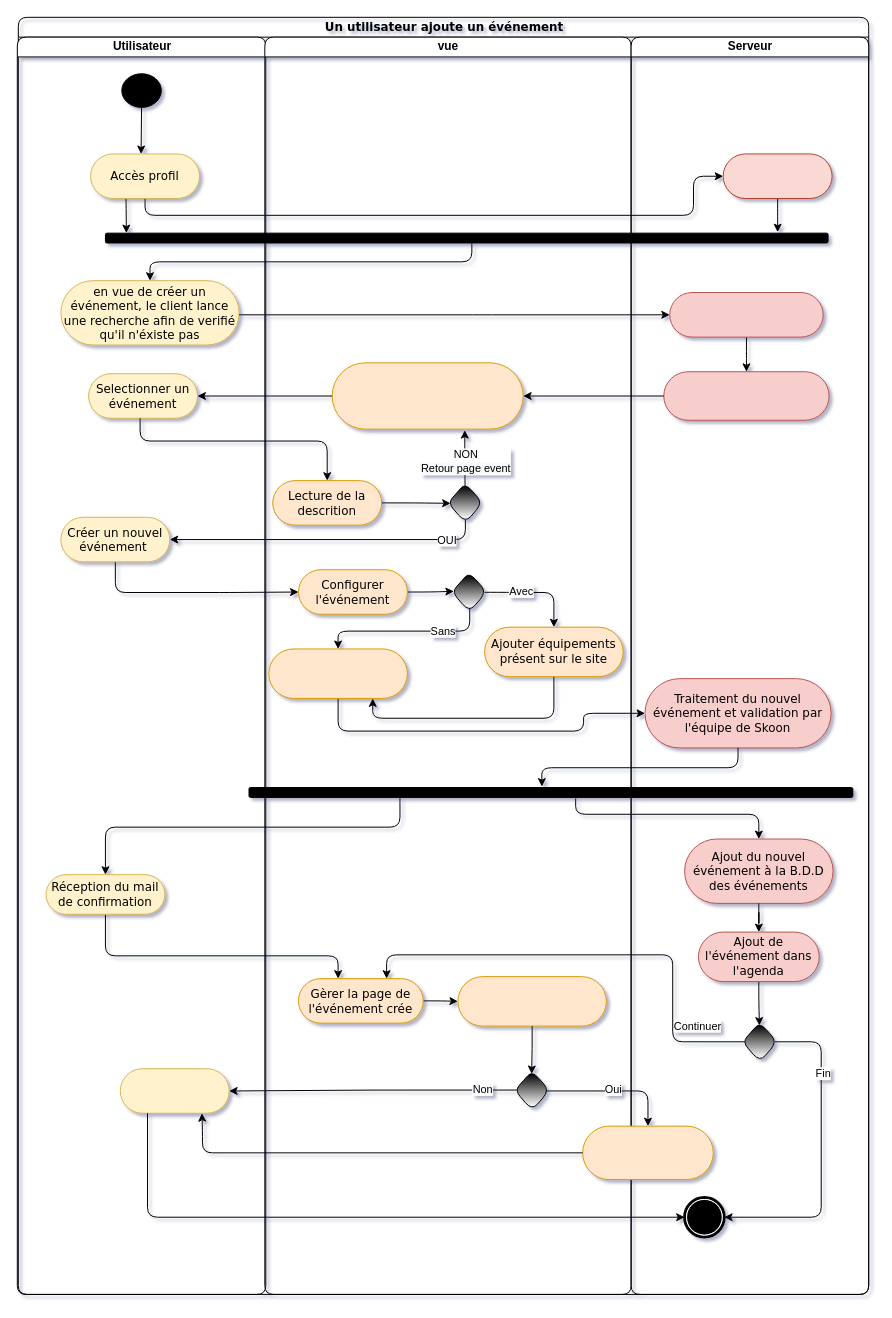
The diagram is 892 pixels wide and 1318 high, and some of its shapes have lost their labels. Here are the shapes that lost their labels. From the top down, the centre of each, then its label:
(x=777, y=175): Modifier informations & localisation
(x=746, y=314): Recupèrer les événements triès par la localisation du client
(x=427, y=395): Visualiser les événements, dans son rayon kilometrique, petites icones clickable
(x=746, y=395): Chargement des événements triés
(x=337, y=673): Validation de l'événement
(x=531, y=1001): Acccès à la messagerie en ligne de l'événement
(x=174, y=1090): Retour profil
(x=647, y=1152): Participer à la discussion avec les autres participants
